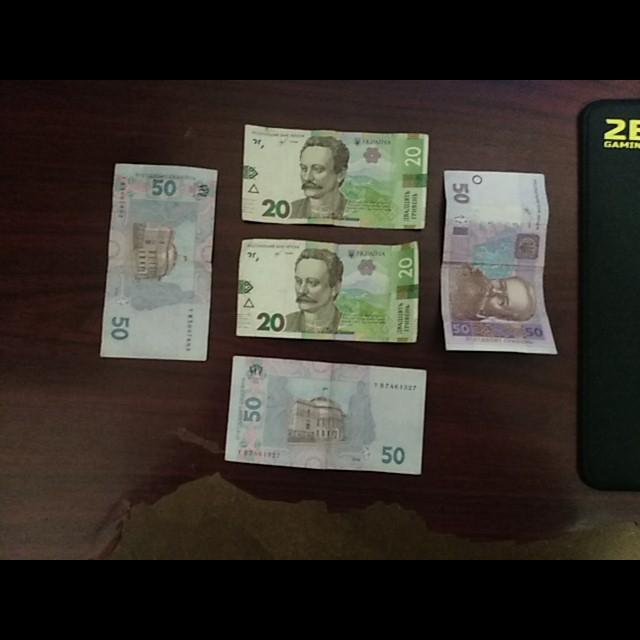20uah: (242, 126, 429, 230), (236, 239, 419, 342)
50uah: (225, 355, 428, 476), (99, 164, 217, 360), (442, 171, 556, 354)
